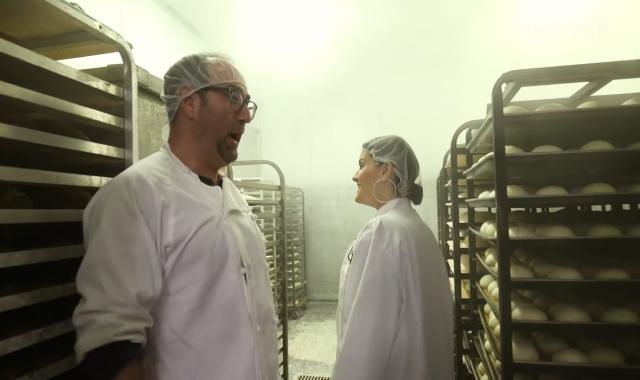hairnet: (158, 49, 251, 115), (362, 127, 425, 196)
